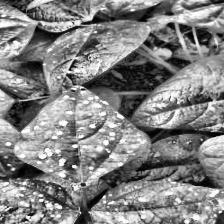Bean Rust: (27, 85, 144, 172), (128, 55, 224, 132), (44, 20, 154, 87), (96, 183, 224, 224), (0, 178, 72, 224), (0, 0, 33, 61), (0, 102, 24, 173), (109, 0, 181, 7)
